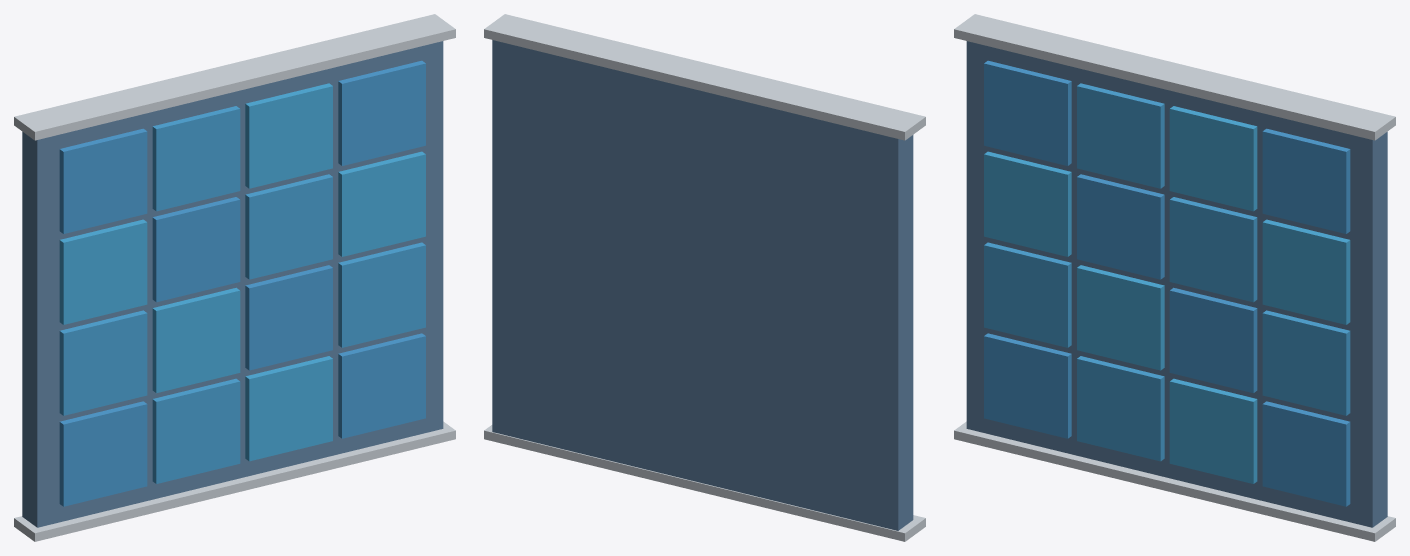
The model's file is sat_solar_wing_starboard.glb.
The picture shows the model from 3 angles, left to right: view 1: azimuth 30°, elevation 25°; view 2: azimuth 150°, elevation 25°; view 3: azimuth 330°, elevation 25°; orthographic projection.
Parts seen in each view (by area): view 1: Solar wing surround 1, Wing frame 1 y0.51, Solar cell 1 1 3, Solar cell 1 0 2, Solar cell 1 1 0, Solar cell 1 1 1, Solar cell 1 0 1, Solar cell 1 0 0, Solar cell 1 1 2, Solar cell 1 0 3, Solar cell 1 3 0, Solar cell 1 2 1 (+7 smaller); view 2: Solar wing surround 1, Wing frame 1 y0.51, Wing frame 1 y-0.51; view 3: Solar wing surround 1, Wing frame 1 y0.51, Solar cell 1 3 2, Solar cell 1 2 3, Solar cell 1 2 0, Solar cell 1 3 1, Solar cell 1 3 0, Solar cell 1 2 1, Solar cell 1 3 3, Solar cell 1 2 2, Solar cell 1 0 0, Solar cell 1 1 1 (+7 smaller).
Boxes of the visible parts, x1,y1,x2,y2 form: Solar wing surround 1: (22, 41, 443, 527); Wing frame 1 y0.51: (14, 14, 455, 140); Solar cell 1 1 3: (152, 106, 240, 211); Solar cell 1 0 2: (59, 219, 147, 324); Solar cell 1 1 0: (152, 378, 240, 483); Solar cell 1 1 1: (152, 287, 240, 393); Solar cell 1 0 1: (59, 310, 147, 415); Solar cell 1 0 0: (59, 401, 147, 506); Solar cell 1 1 2: (152, 197, 240, 302); Solar cell 1 0 3: (59, 128, 147, 233); Solar cell 1 3 0: (338, 333, 425, 438); Solar cell 1 2 1: (245, 265, 332, 370); Solar wing surround 1: (492, 40, 913, 530); Wing frame 1 y0.51: (484, 14, 925, 140); Wing frame 1 y-0.51: (484, 425, 925, 541); Solar wing surround 1: (966, 41, 1387, 527); Wing frame 1 y0.51: (954, 14, 1395, 140); Solar cell 1 3 2: (1262, 219, 1350, 324); Solar cell 1 2 3: (1169, 106, 1257, 211); Solar cell 1 2 0: (1169, 378, 1257, 483); Solar cell 1 3 1: (1262, 310, 1350, 415); Solar cell 1 3 0: (1262, 401, 1350, 506); Solar cell 1 2 1: (1169, 287, 1257, 393); Solar cell 1 3 3: (1262, 128, 1350, 233); Solar cell 1 2 2: (1169, 197, 1257, 302); Solar cell 1 0 0: (984, 333, 1071, 438); Solar cell 1 1 1: (1077, 265, 1164, 370).
Size of the model in its own units: 1.12 by 1.04 by 0.096.
